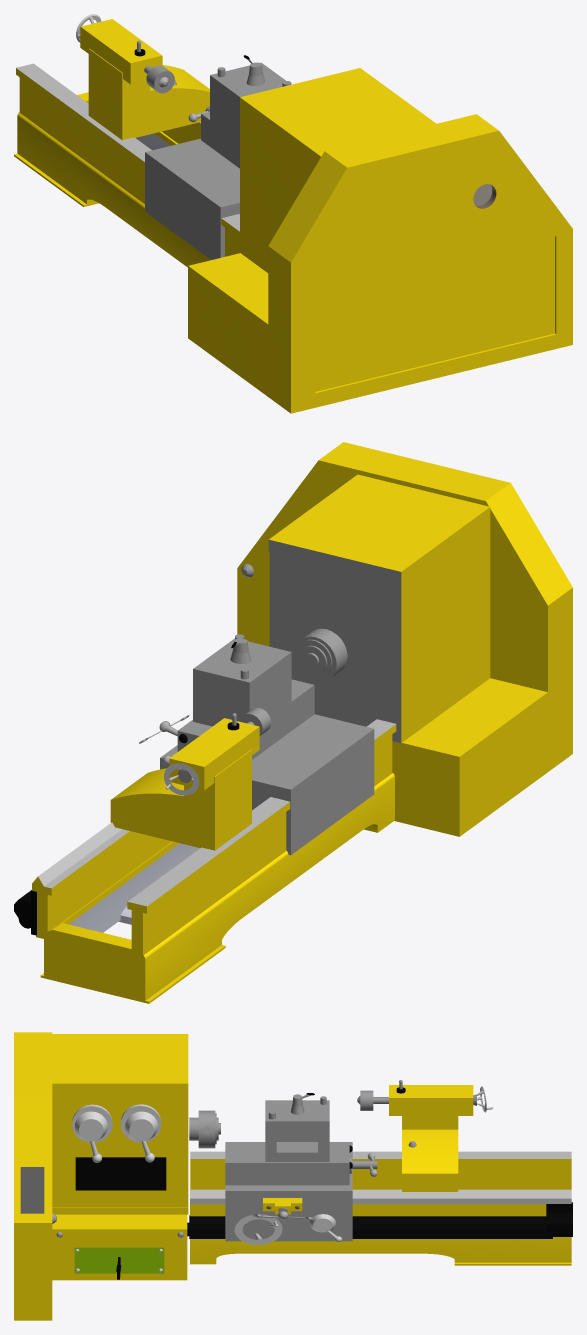
The model's file is maquina_001.gltf.
The picture shows the model from 3 angles, top to bottom: view 1: azimuth 30°, elevation 25°; view 2: azimuth 150°, elevation 25°; view 3: azimuth 270°, elevation 25°; orthographic projection. The views are drawn at different scales.
Visible parts, largest first — view 1: Mesh158 Group46 Group1 Model, Mesh194 Group60 Group53 Group1 Model, Mesh218 Group64 Group63 Group1 Model, Mesh222 Group1 Model, Mesh49 Group3 Group1 Model, Mesh71 Group26 Group25 Group24 Group1 Model, Mesh104 Group27 Group24 Group1 Model, Mesh120 Group36 Group1 Model, Mesh149 Group39 Group1 Model, Mesh220 Group63 Group1 Model; view 2: Mesh194 Group60 Group53 Group1 Model, Mesh218 Group64 Group63 Group1 Model, Mesh158 Group46 Group1 Model, Mesh222 Group1 Model, Mesh49 Group3 Group1 Model, Mesh71 Group26 Group25 Group24 Group1 Model, Mesh220 Group63 Group1 Model, Mesh120 Group36 Group1 Model, Mesh104 Group27 Group24 Group1 Model, Mesh149 Group39 Group1 Model, Mesh199 Group61 Group53 Group1 Model; view 3: Mesh194 Group60 Group53 Group1 Model, Mesh218 Group64 Group63 Group1 Model, Mesh158 Group46 Group1 Model, Mesh222 Group1 Model, Mesh220 Group63 Group1 Model, Mesh49 Group3 Group1 Model, Mesh149 Group39 Group1 Model, Mesh71 Group26 Group25 Group24 Group1 Model, Mesh216 Group62 Group1 Model, Mesh120 Group36 Group1 Model, Mesh173 Group50 Group1 Model, Mesh104 Group27 Group24 Group1 Model (+9 smaller).
Part boxes in pixels (left/top/right/bottom): Mesh158 Group46 Group1 Model: left=268, top=114, right=572, bottom=413; Mesh194 Group60 Group53 Group1 Model: left=240, top=68, right=436, bottom=272; Mesh218 Group64 Group63 Group1 Model: left=14, top=63, right=239, bottom=267; Mesh222 Group1 Model: left=188, top=253, right=268, bottom=396; Mesh49 Group3 Group1 Model: left=145, top=138, right=239, bottom=259; Mesh71 Group26 Group25 Group24 Group1 Model: left=88, top=48, right=209, bottom=140; Mesh104 Group27 Group24 Group1 Model: left=80, top=19, right=162, bottom=84; Mesh120 Group36 Group1 Model: left=210, top=62, right=291, bottom=146; Mesh149 Group39 Group1 Model: left=201, top=106, right=239, bottom=168; Mesh220 Group63 Group1 Model: left=154, top=122, right=200, bottom=145; Mesh194 Group60 Group53 Group1 Model: left=268, top=474, right=490, bottom=743; Mesh218 Group64 Group63 Group1 Model: left=40, top=719, right=396, bottom=1003; Mesh158 Group46 Group1 Model: left=237, top=442, right=572, bottom=771; Mesh222 Group1 Model: left=392, top=678, right=547, bottom=836; Mesh49 Group3 Group1 Model: left=160, top=714, right=374, bottom=855; Mesh71 Group26 Group25 Group24 Group1 Model: left=110, top=749, right=251, bottom=850; Mesh220 Group63 Group1 Model: left=32, top=822, right=179, bottom=938; Mesh120 Group36 Group1 Model: left=193, top=634, right=291, bottom=726; Mesh104 Group27 Group24 Group1 Model: left=169, top=716, right=259, bottom=790; Mesh149 Group39 Group1 Model: left=177, top=679, right=314, bottom=759; Mesh199 Group61 Group53 Group1 Model: left=294, top=628, right=347, bottom=682; Mesh194 Group60 Group53 Group1 Model: left=52, top=1034, right=188, bottom=1214; Mesh218 Group64 Group63 Group1 Model: left=190, top=1151, right=571, bottom=1265; Mesh158 Group46 Group1 Model: left=14, top=1032, right=52, bottom=1320; Mesh222 Group1 Model: left=52, top=1190, right=187, bottom=1280; Mesh220 Group63 Group1 Model: left=190, top=1189, right=571, bottom=1237; Mesh49 Group3 Group1 Model: left=225, top=1142, right=352, bottom=1241; Mesh149 Group39 Group1 Model: left=225, top=1142, right=377, bottom=1185; Mesh71 Group26 Group25 Group24 Group1 Model: left=402, top=1116, right=458, bottom=1191; Mesh216 Group62 Group1 Model: left=189, top=1215, right=552, bottom=1238; Mesh120 Group36 Group1 Model: left=265, top=1096, right=329, bottom=1161; Mesh173 Group50 Group1 Model: left=75, top=1157, right=166, bottom=1190; Mesh104 Group27 Group24 Group1 Model: left=373, top=1082, right=476, bottom=1115.
Bounding box in the file's own units: 39.04 × 30.72 × 79.5.
